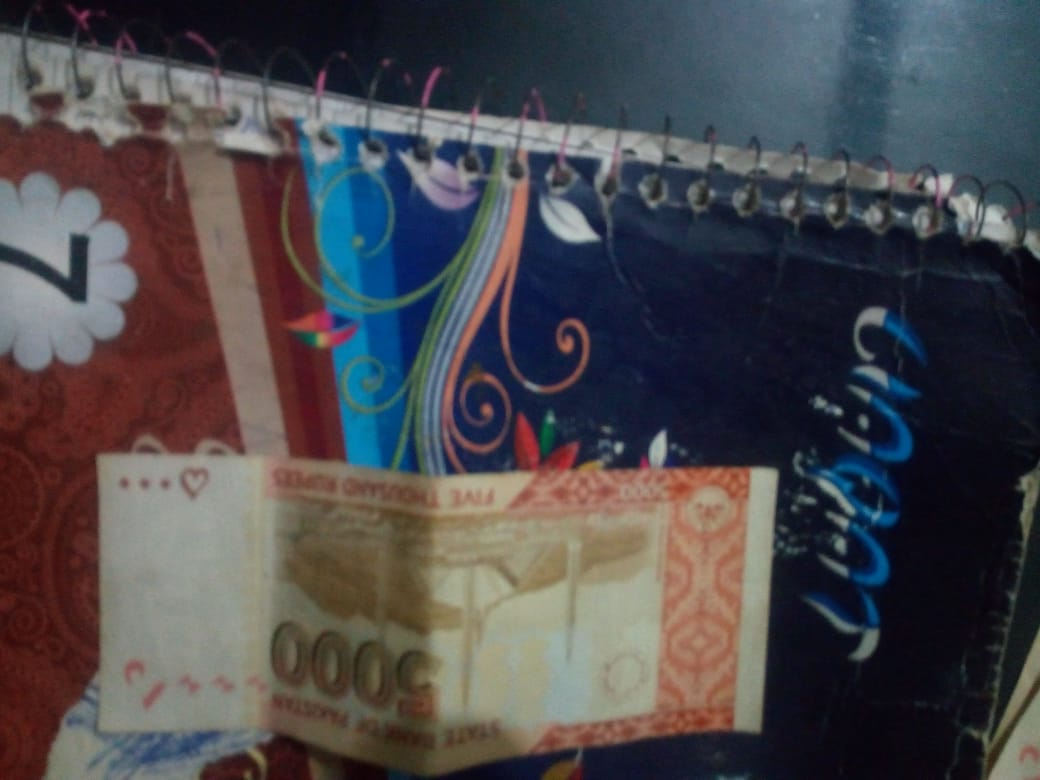5000 rupee: (92, 433, 786, 765)
